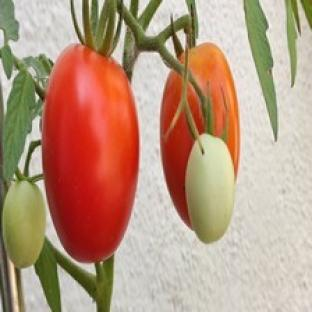Tomato: (42, 45, 139, 263), (186, 134, 235, 242), (161, 72, 193, 227), (2, 182, 45, 268)
